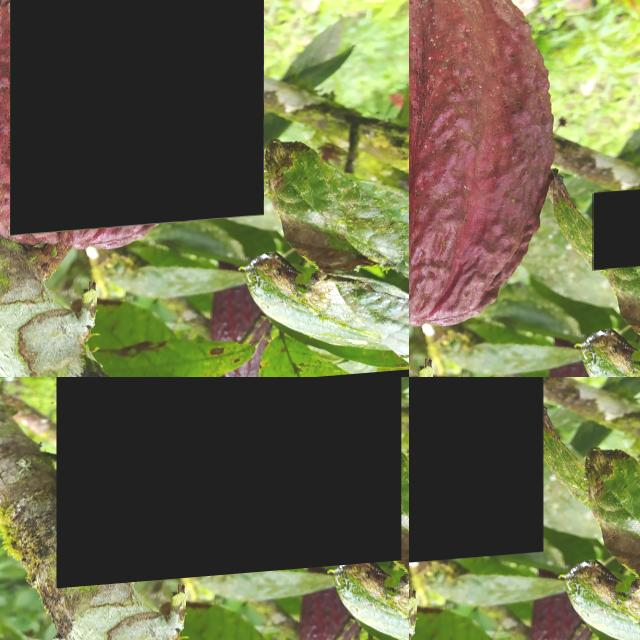Monilia: (56, 377, 401, 591)
Sana: (10, 0, 264, 239), (409, 377, 543, 575), (592, 197, 640, 278), (536, 137, 570, 235), (574, 38, 616, 115), (610, 27, 640, 106), (630, 177, 640, 297), (568, 132, 590, 185)
